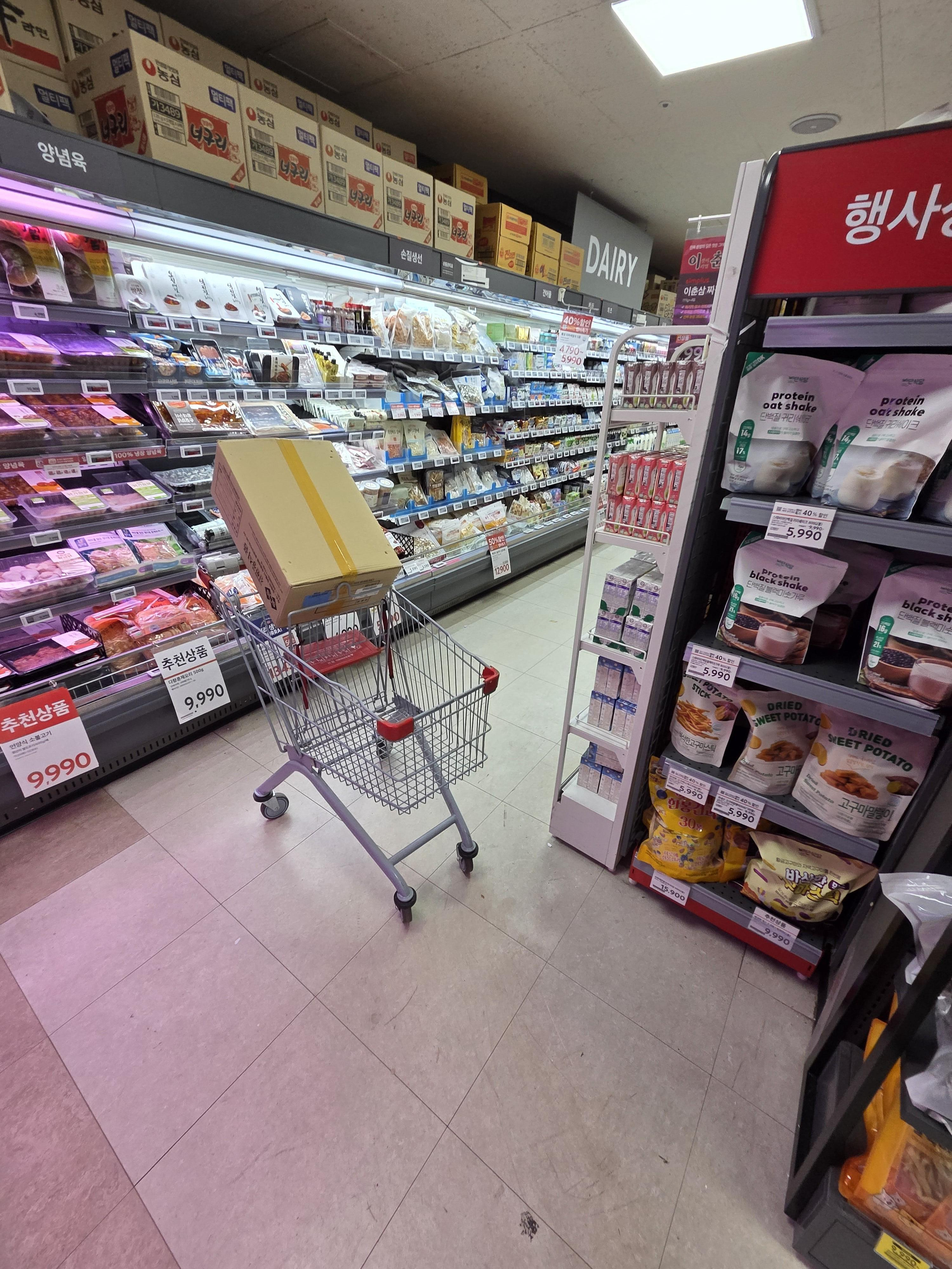fully_cart: (197, 390, 537, 926)
